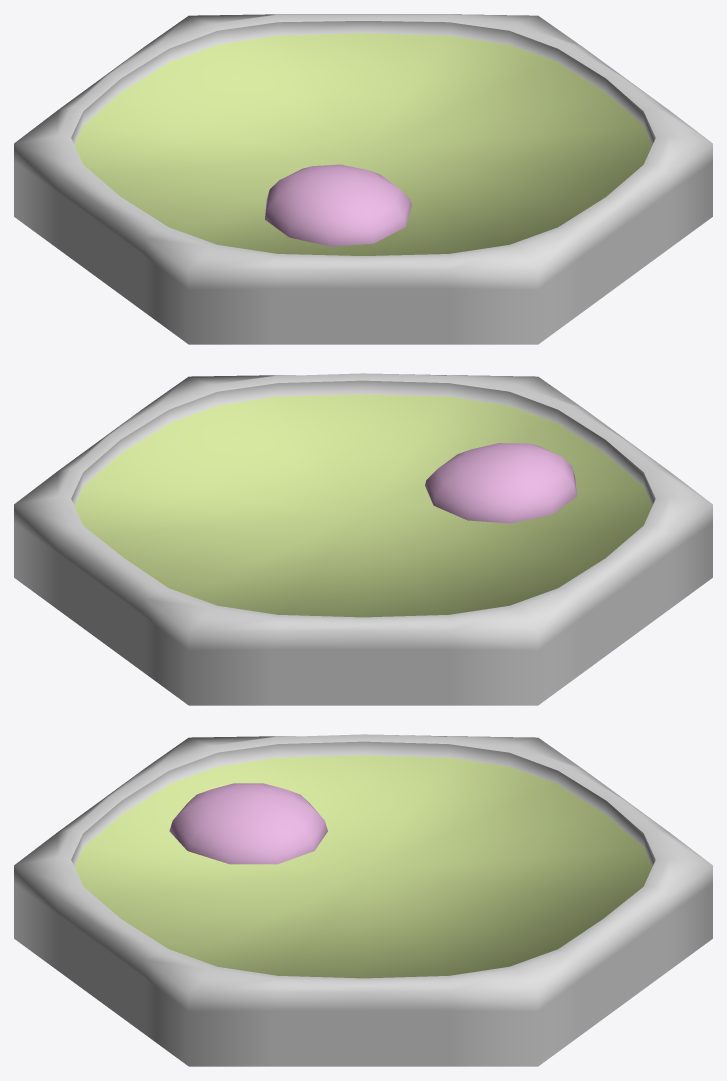
File: cell 1.fbx
The picture shows the model from 3 angles, top to bottom: view 1: azimuth 30°, elevation 25°; view 2: azimuth 150°, elevation 25°; view 3: azimuth 270°, elevation 25°; orthographic projection.
Visible parts, largest first — view 1: Cylinder.001, Sphere.003; view 2: Cylinder.001, Sphere.003; view 3: Cylinder.001, Sphere.003.
Part boxes in pixels (x1=…): Cylinder.001: x1=14, y1=14, x2=712, y2=344; Sphere.003: x1=265, y1=164, x2=411, y2=246; Cylinder.001: x1=14, y1=373, x2=712, y2=705; Sphere.003: x1=425, y1=443, x2=576, y2=523; Cylinder.001: x1=14, y1=734, x2=712, y2=1066; Sphere.003: x1=169, y1=783, x2=327, y2=864.
Size of the model in its own units: 173 by 32.8 by 200.
